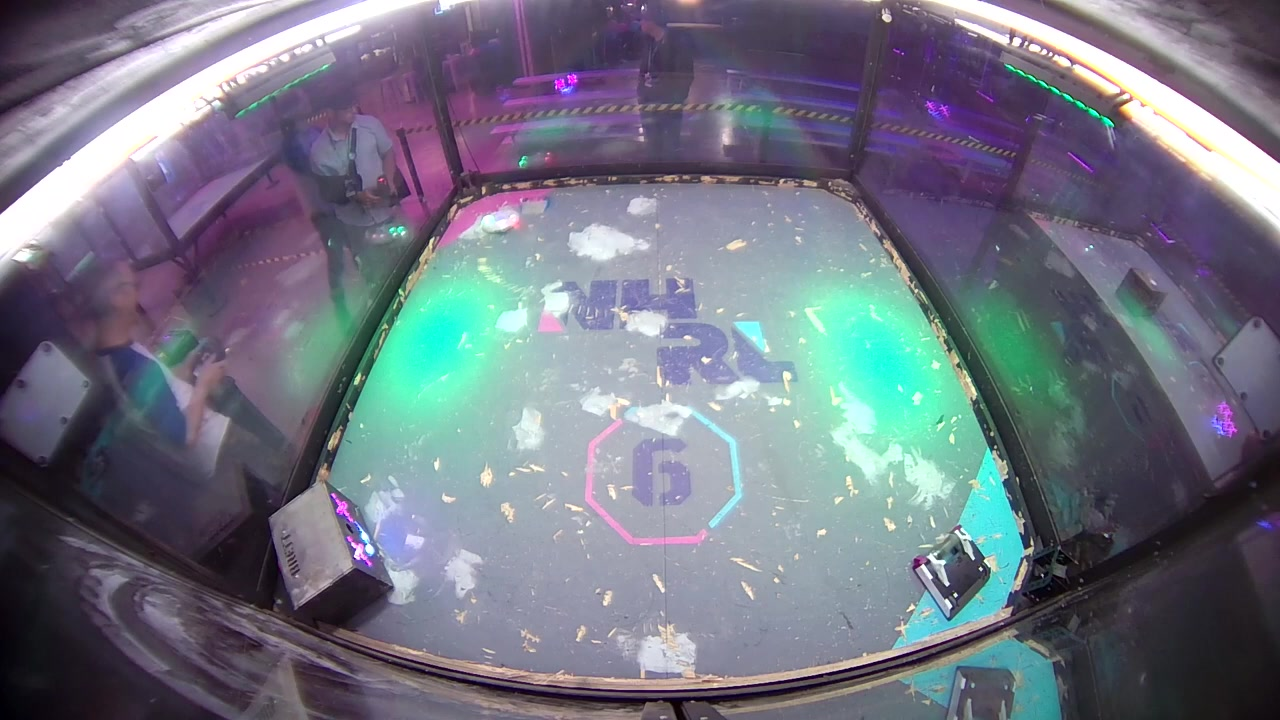combatbot: (910, 525, 993, 622), (481, 204, 526, 233)
housebot: (269, 478, 394, 624)
